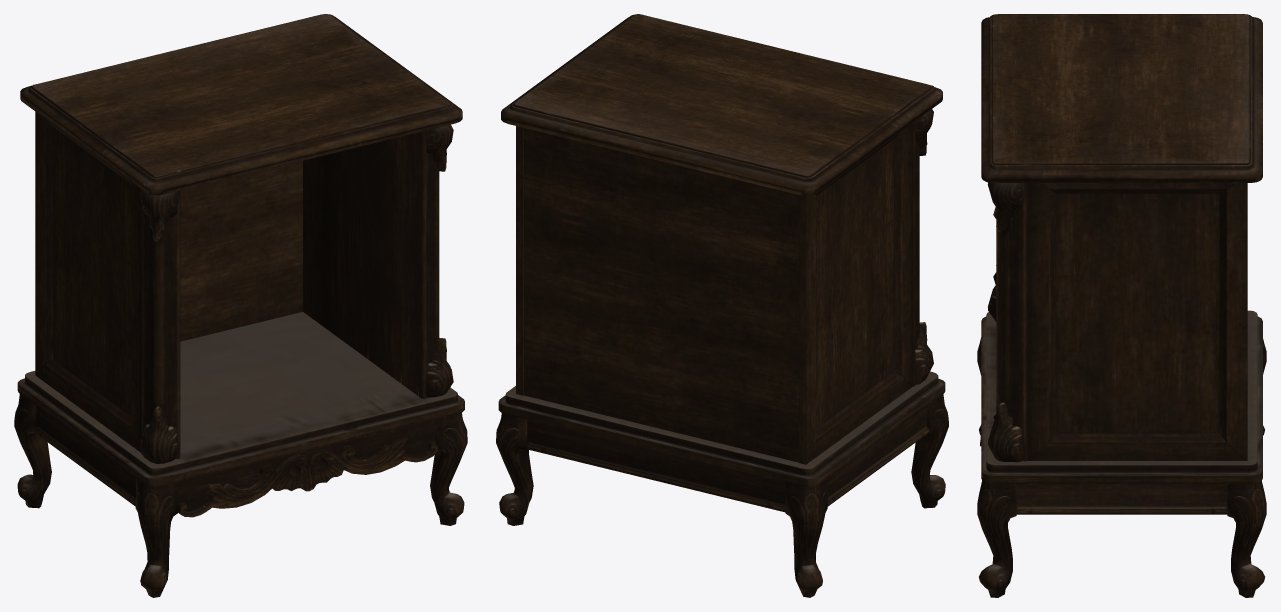
File: ClassicNightstand_01_1k.gltf
The picture shows the model from 3 angles, left to right: view 1: azimuth 30°, elevation 25°; view 2: azimuth 150°, elevation 25°; view 3: azimuth 270°, elevation 25°; orthographic projection. The views are drawn at different scales.
Parts seen in each view (by area): view 1: ClassicNightstand_01; view 2: ClassicNightstand_01; view 3: ClassicNightstand_01.
Part boxes in pixels (left/top/right/bottom): ClassicNightstand_01: left=14, top=14, right=467, bottom=597; ClassicNightstand_01: left=496, top=14, right=948, bottom=597; ClassicNightstand_01: left=977, top=14, right=1266, bottom=597.
Size of the model in its own units: 0.5678 by 0.7 by 0.4242.
1 material, 1 textured.
